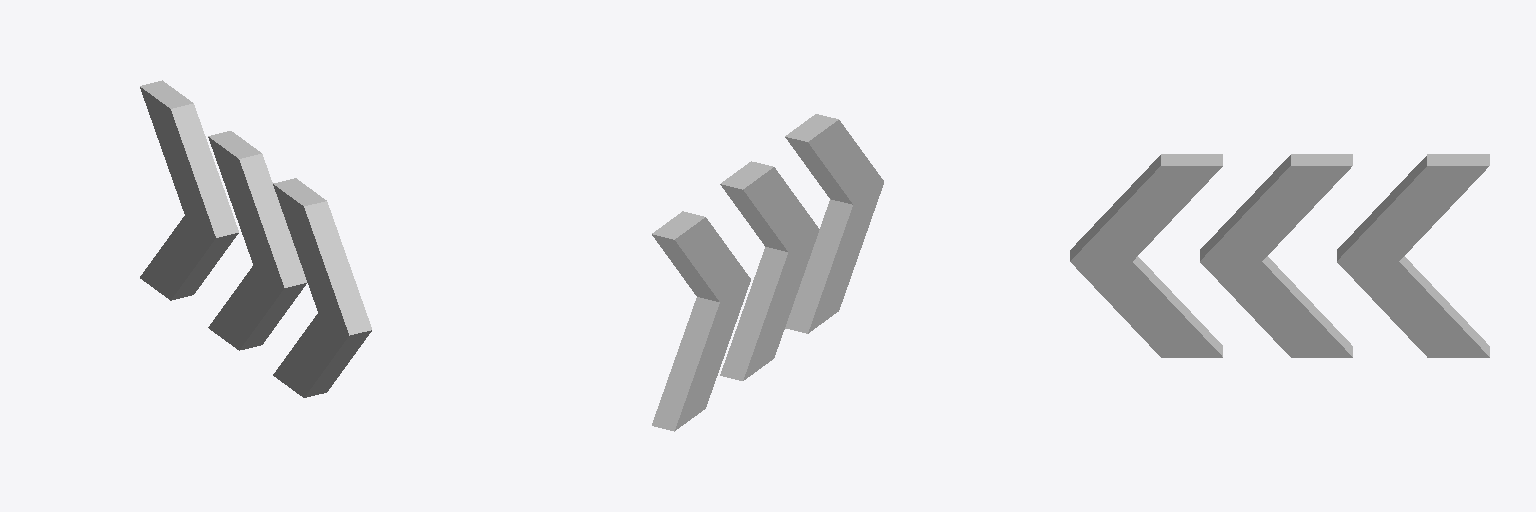
The model's file is Speedfactor.obj.
The picture shows the model from 3 angles: view 1: azimuth 30°, elevation 25°; view 2: azimuth 150°, elevation 25°; view 3: azimuth 270°, elevation 25°; orthographic projection.
Parts seen in each view (by area): view 1: Plano; view 2: Plano; view 3: Plano.
Boxes of the visible parts, x1=… form: Plano: x1=140, y1=80, x2=371, y2=397; Plano: x1=652, y1=114, x2=883, y2=431; Plano: x1=1070, y1=154, x2=1489, y2=357.
Bounding box in the file's own units: 0.2529 × 2 × 3.97.